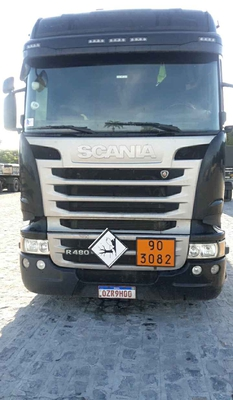Frontal Caminhao: (2, 9, 228, 299)
